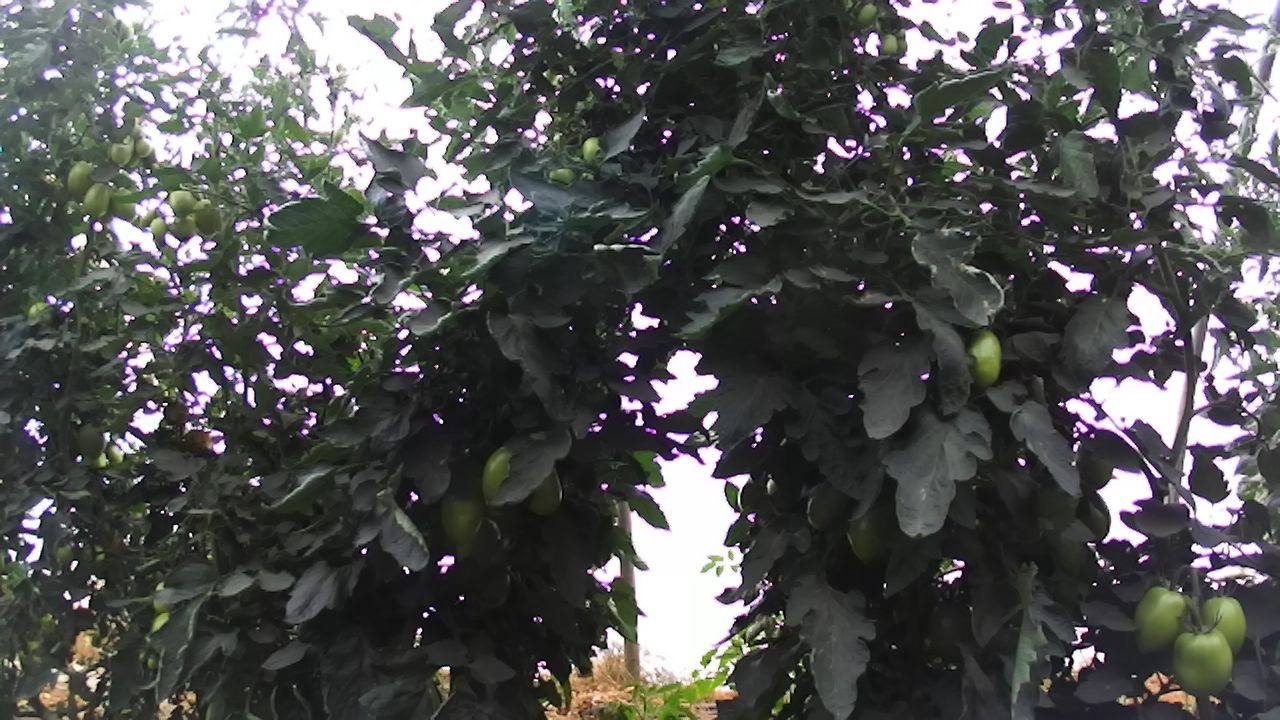tomato: (1172, 623, 1236, 700), (1125, 584, 1193, 655), (841, 492, 899, 567), (433, 491, 489, 549), (963, 323, 1010, 390), (522, 462, 573, 521), (1201, 594, 1248, 657), (70, 416, 107, 463), (60, 159, 100, 198), (78, 179, 114, 217), (103, 136, 134, 167), (166, 187, 196, 214), (147, 216, 170, 239), (132, 134, 153, 158)
